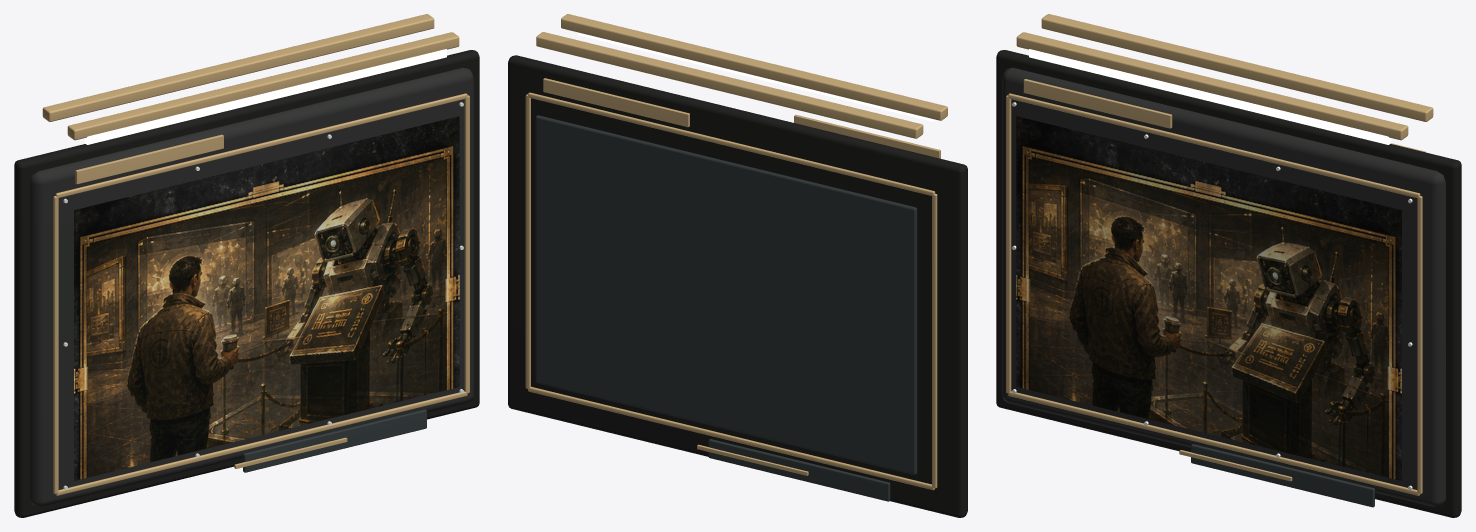
Rendered from age_museum_wall_art_human_origin.glb.
3 renders of one model, left to right at view 1: azimuth 30°, elevation 25°; view 2: azimuth 150°, elevation 25°; view 3: azimuth 330°, elevation 25°, orthographic.
Visible parts, largest first — view 1: age_museum_wall_art_human_origin_front_image2_readable_face, age_museum_wall_art_human_origin_blackened_metal_frame, age_museum_wall_art_human_origin_shadow_gap, age_museum_wall_art_human_origin_aged_bronze_inner_frame_tri (×4), age_museum_wall_art_human_origin_back_gallery_light_bronze_s, age_museum_wall_art_human_origin_gallery_light_bronze_shroud, age_museum_wall_art_human_origin_gallery_white_wall_washer, age_museum_wall_art_human_origin_lower_caption_plate, age_museum_wall_art_human_origin_small_archive_title_tag, age_museum_wall_art_human_origin_lower_caption_gold_rule; view 2: age_museum_wall_art_human_origin_back_matte_archive_plate, age_museum_wall_art_human_origin_shadow_gap, age_museum_wall_art_human_origin_back_aged_bronze_inner_fram (×4), age_museum_wall_art_human_origin_back_gallery_light_bronze_s, age_museum_wall_art_human_origin_gallery_light_bronze_shroud, age_museum_wall_art_human_origin_back_lower_caption_plate, age_museum_wall_art_human_origin_back_small_archive_title_ta, age_museum_wall_art_human_origin_small_archive_title_tag, age_museum_wall_art_human_origin_gallery_white_wall_washer, age_museum_wall_art_human_origin_back_lower_caption_gold_rul; view 3: age_museum_wall_art_human_origin_front_image2_readable_face, age_museum_wall_art_human_origin_blackened_metal_frame, age_museum_wall_art_human_origin_shadow_gap, age_museum_wall_art_human_origin_aged_bronze_inner_frame_tri (×4), age_museum_wall_art_human_origin_back_gallery_light_bronze_s, age_museum_wall_art_human_origin_gallery_light_bronze_shroud, age_museum_wall_art_human_origin_gallery_white_wall_washer, age_museum_wall_art_human_origin_lower_caption_plate, age_museum_wall_art_human_origin_small_archive_title_tag, age_museum_wall_art_human_origin_lower_caption_gold_rule.
Part boxes in pixels (x1=…): age_museum_wall_art_human_origin_front_image2_readable_face: x1=74, y1=116, x2=459, y2=480; age_museum_wall_art_human_origin_blackened_metal_frame: x1=30, y1=67, x2=473, y2=506; age_museum_wall_art_human_origin_shadow_gap: x1=14, y1=50, x2=479, y2=517; age_museum_wall_art_human_origin_aged_bronze_inner_frame_tri (×4): x1=53, y1=93, x2=469, y2=495; age_museum_wall_art_human_origin_back_gallery_light_bronze_s: x1=42, y1=14, x2=434, y2=121; age_museum_wall_art_human_origin_gallery_light_bronze_shroud: x1=67, y1=32, x2=459, y2=140; age_museum_wall_art_human_origin_gallery_white_wall_washer: x1=85, y1=49, x2=446, y2=144; age_museum_wall_art_human_origin_lower_caption_plate: x1=243, y1=409, x2=426, y2=472; age_museum_wall_art_human_origin_small_archive_title_tag: x1=75, y1=134, x2=223, y2=184; age_museum_wall_art_human_origin_lower_caption_gold_rule: x1=234, y1=437, x2=347, y2=468; age_museum_wall_art_human_origin_back_matte_archive_plate: x1=535, y1=115, x2=917, y2=474; age_museum_wall_art_human_origin_shadow_gap: x1=508, y1=55, x2=967, y2=517; age_museum_wall_art_human_origin_back_aged_bronze_inner_fram (×4): x1=525, y1=92, x2=937, y2=490; age_museum_wall_art_human_origin_back_gallery_light_bronze_s: x1=536, y1=32, x2=923, y2=138; age_museum_wall_art_human_origin_gallery_light_bronze_shroud: x1=561, y1=14, x2=947, y2=120; age_museum_wall_art_human_origin_back_lower_caption_plate: x1=708, y1=439, x2=890, y2=501; age_museum_wall_art_human_origin_back_small_archive_title_ta: x1=543, y1=78, x2=689, y2=127; age_museum_wall_art_human_origin_small_archive_title_tag: x1=794, y1=114, x2=940, y2=158; age_museum_wall_art_human_origin_gallery_white_wall_washer: x1=578, y1=32, x2=935, y2=121; age_museum_wall_art_human_origin_back_lower_caption_gold_rul: x1=697, y1=444, x2=808, y2=475; age_museum_wall_art_human_origin_front_image2_readable_face: x1=1016, y1=116, x2=1401, y2=480; age_museum_wall_art_human_origin_blackened_metal_frame: x1=1002, y1=67, x2=1445, y2=506; age_museum_wall_art_human_origin_shadow_gap: x1=996, y1=50, x2=1461, y2=517; age_museum_wall_art_human_origin_aged_bronze_inner_frame_tri (×4): x1=1006, y1=93, x2=1422, y2=495; age_museum_wall_art_human_origin_back_gallery_light_bronze_s: x1=1041, y1=14, x2=1433, y2=121; age_museum_wall_art_human_origin_gallery_light_bronze_shroud: x1=1016, y1=32, x2=1408, y2=140; age_museum_wall_art_human_origin_gallery_white_wall_washer: x1=1029, y1=49, x2=1390, y2=144; age_museum_wall_art_human_origin_lower_caption_plate: x1=1191, y1=444, x2=1374, y2=507; age_museum_wall_art_human_origin_small_archive_title_tag: x1=1023, y1=79, x2=1172, y2=128; age_museum_wall_art_human_origin_lower_caption_gold_rule: x1=1179, y1=450, x2=1292, y2=481.
Bounding box in the file's own units: 1.82 × 1.48 × 0.228.
Materials: 7 (1 with a texture image).
